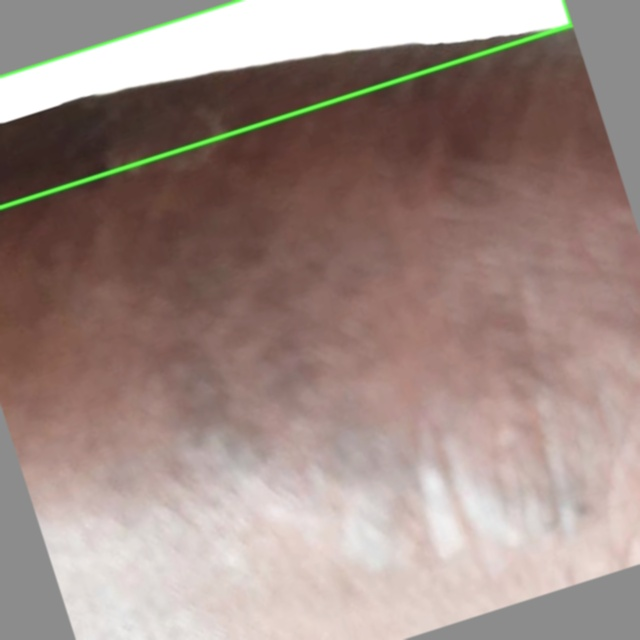Contact Dermatitis: (0, 0, 571, 207)
